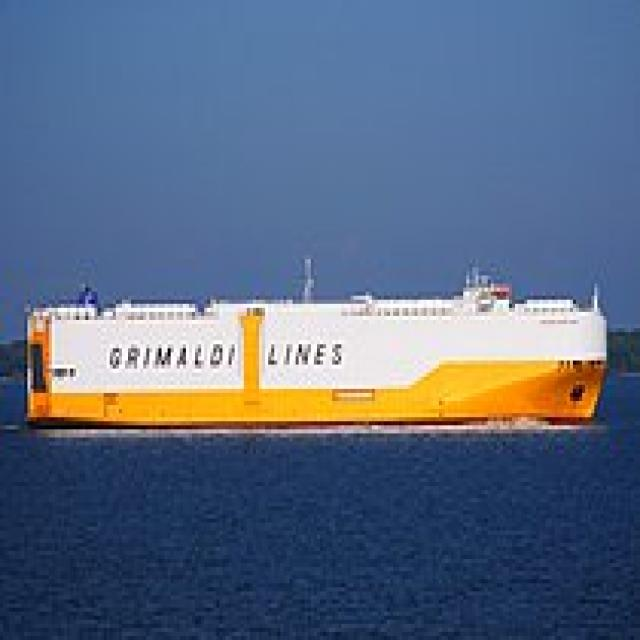Carrier: (16, 256, 606, 434)
